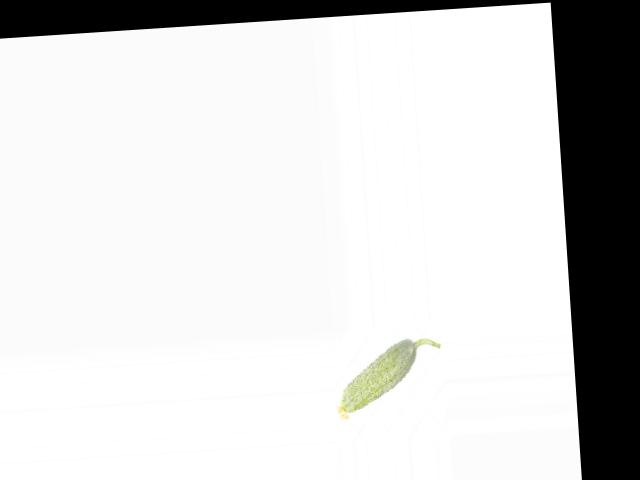cucumber: (332, 336, 443, 421)
